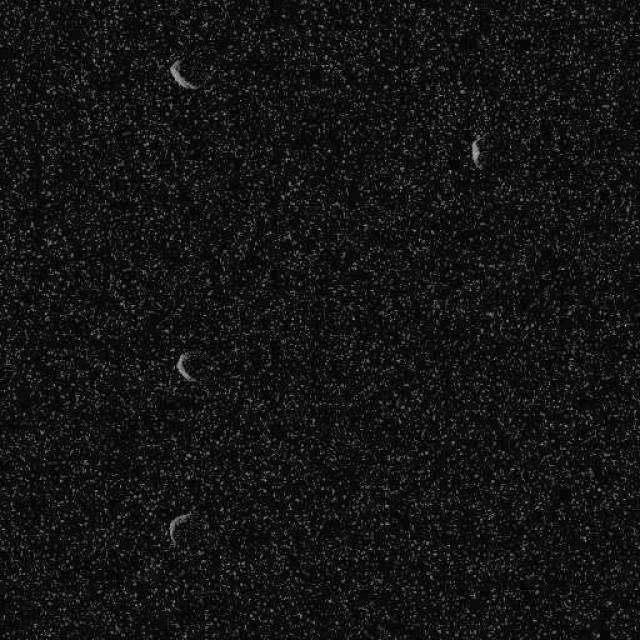D2: (168, 56, 198, 92), (166, 510, 192, 545), (172, 350, 196, 382), (468, 136, 482, 168)
